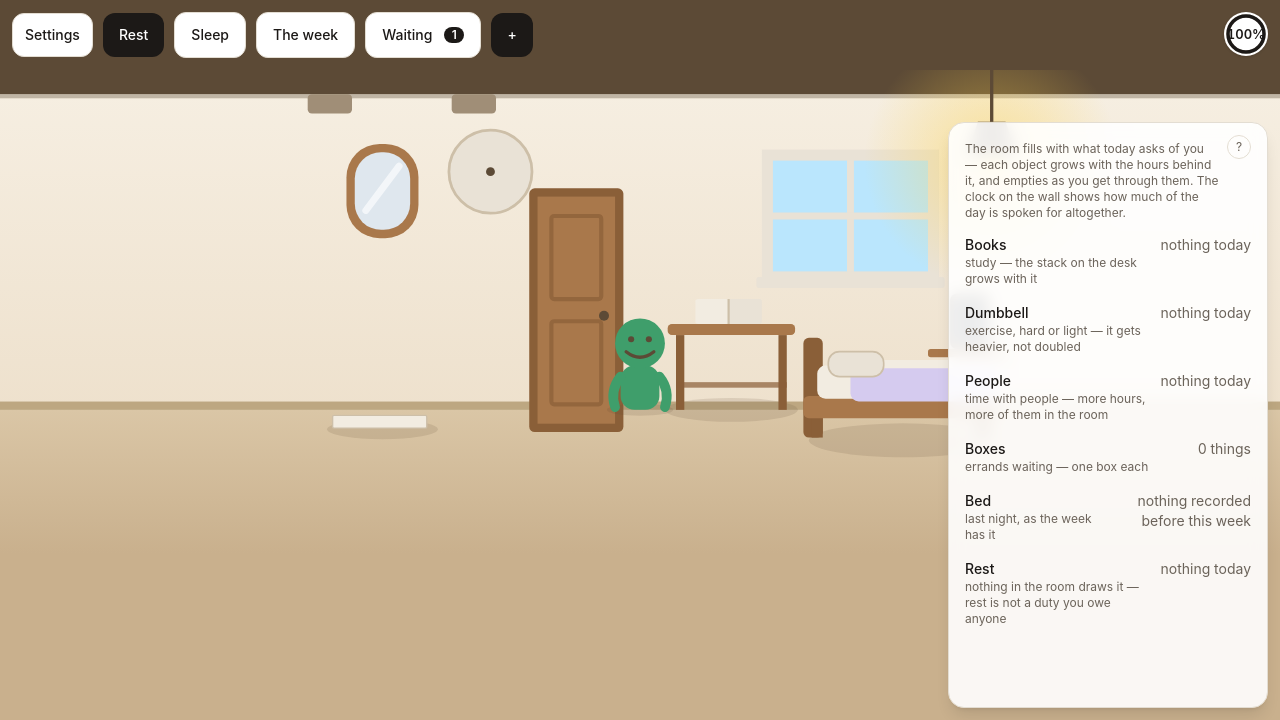
Test case: App, signed in › signs out and returns to the way in
Who you are lives in settings now.
What coordinates should you click on to do the following:
click the button with test id "open-settings"
I would click on:
 (52, 35)
Its box is [12, 13, 93, 57].
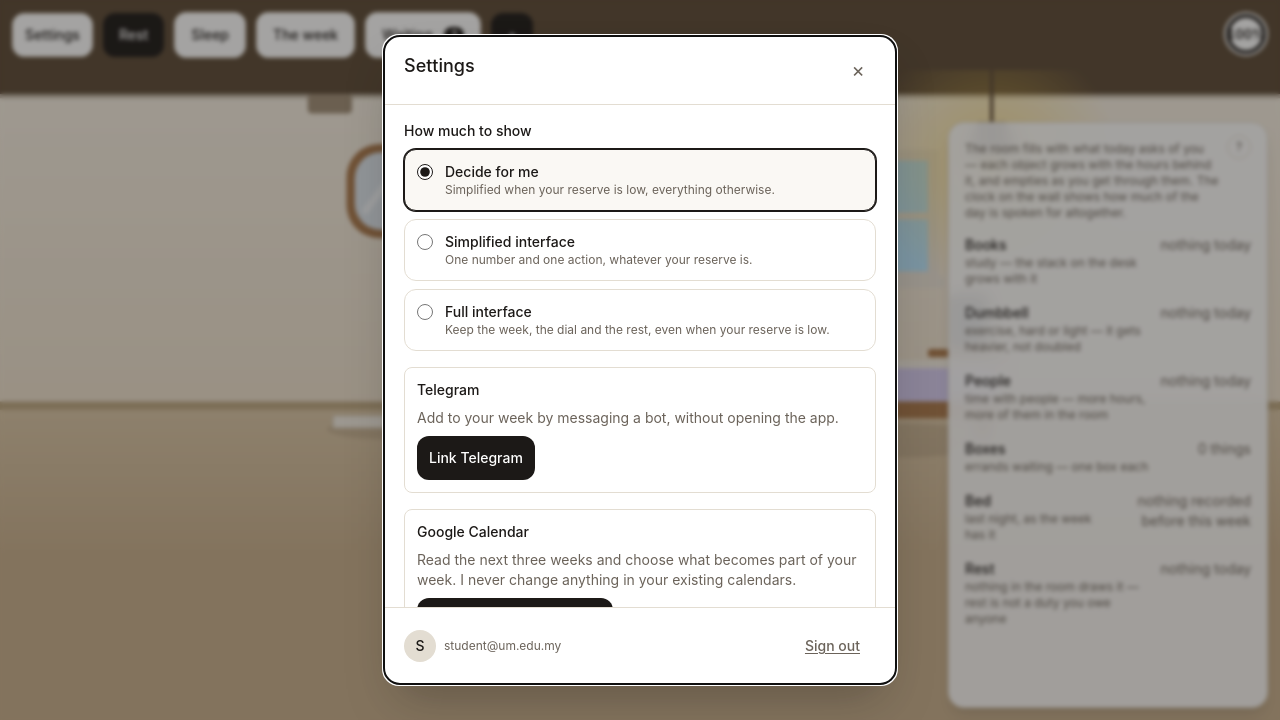
Result: the text "student@um.edu.my" is shown at [444, 638, 561, 654]
What coordinates should you click on to do the following:
click the button "Sign out"
I would click on:
 (832, 646)
Its box is [789, 624, 876, 668].
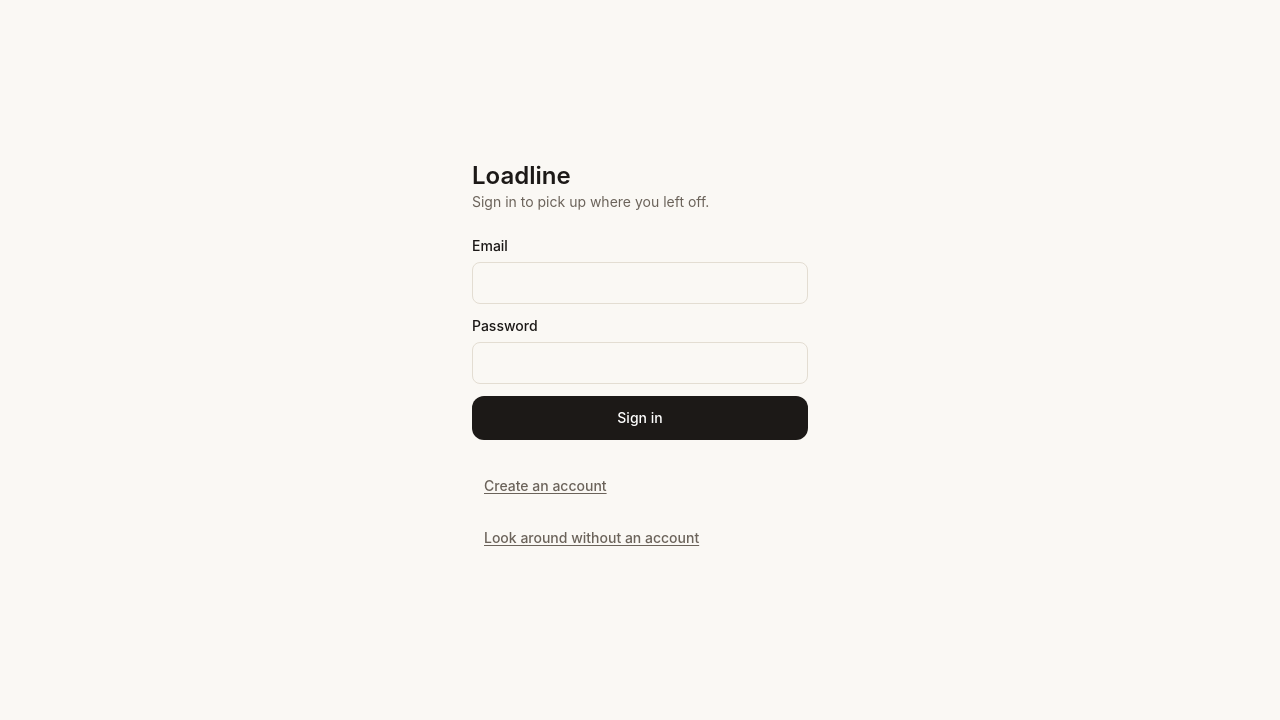
Result: the button "Sign in" is shown at [472, 396, 808, 440]
